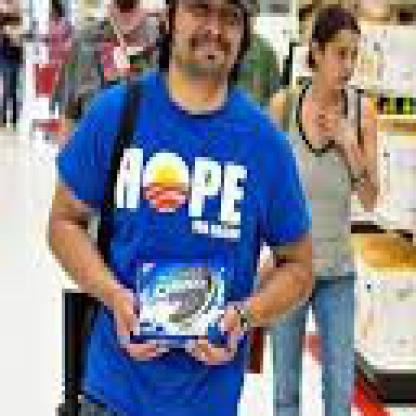gun: (0, 89, 182, 412)
